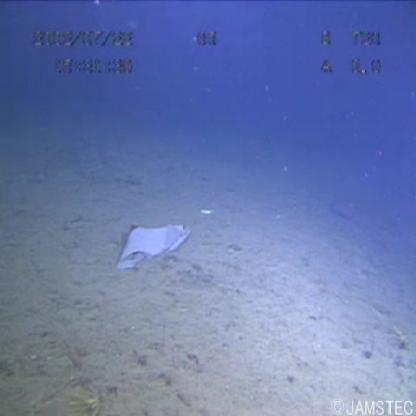Rác: (107, 217, 196, 273)
